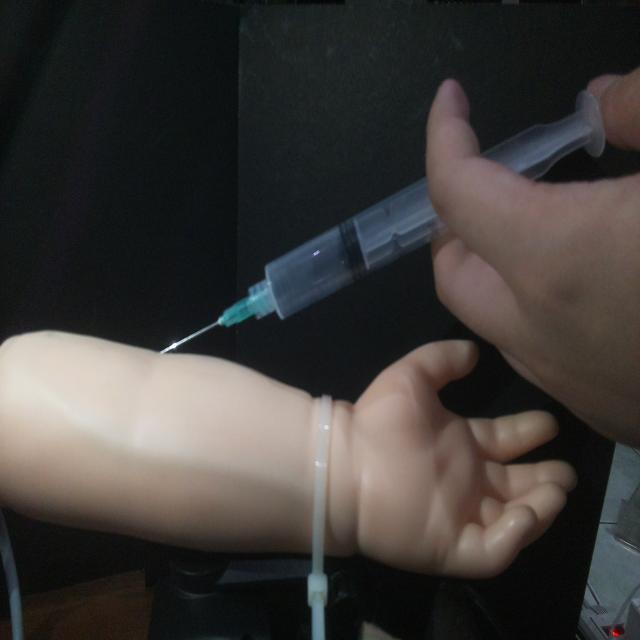25deg: (154, 84, 608, 358)
